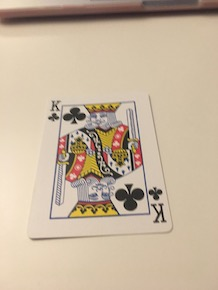KingOfClubs: (28, 84, 176, 245)
